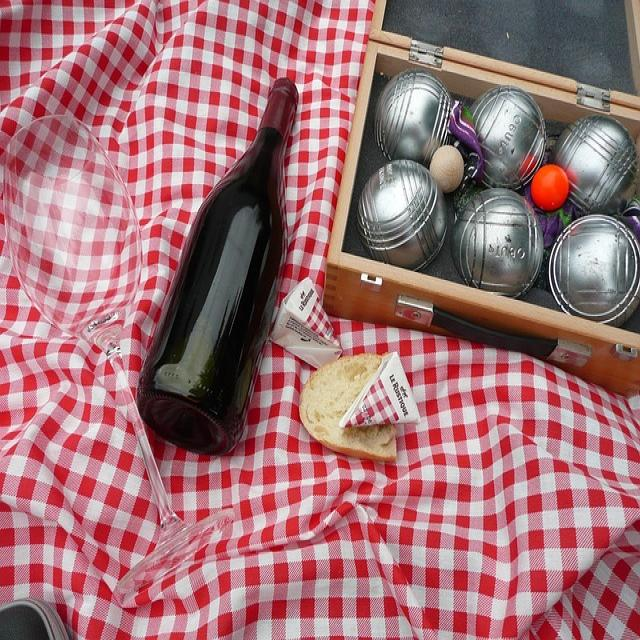hatball: (427, 142, 470, 195), (529, 162, 575, 210)
petanque: (446, 190, 551, 312), (544, 214, 639, 343), (354, 160, 452, 274), (550, 114, 639, 222), (372, 66, 466, 166), (471, 83, 556, 191)
